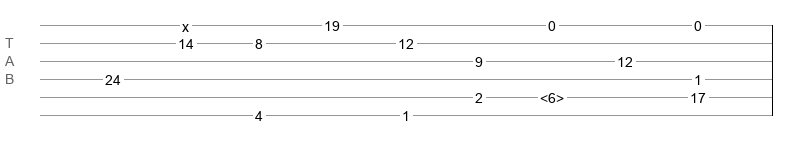0: (548, 18, 556, 28), (694, 18, 702, 28)
1: (402, 108, 410, 118), (694, 72, 702, 82)
12: (398, 36, 414, 46), (617, 54, 633, 64)
14: (178, 36, 194, 46)
17: (690, 90, 706, 100)
19: (324, 18, 340, 28)
2: (475, 90, 483, 100)
24: (105, 72, 121, 82)
4: (255, 108, 263, 118)
8: (255, 36, 263, 46)
9: (475, 54, 483, 64)
harmonic: (540, 90, 564, 100)
x: (182, 19, 189, 27)
